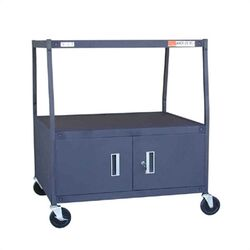Carts: (27, 37, 221, 229)
